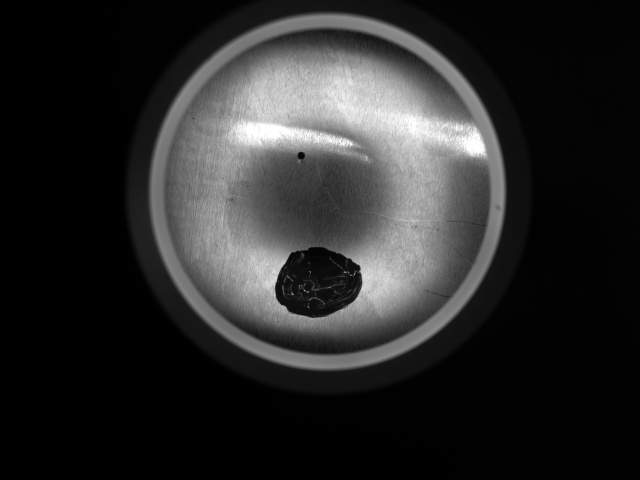zang_wu: (270, 243, 366, 320)
zhen_kong: (293, 148, 310, 165)
